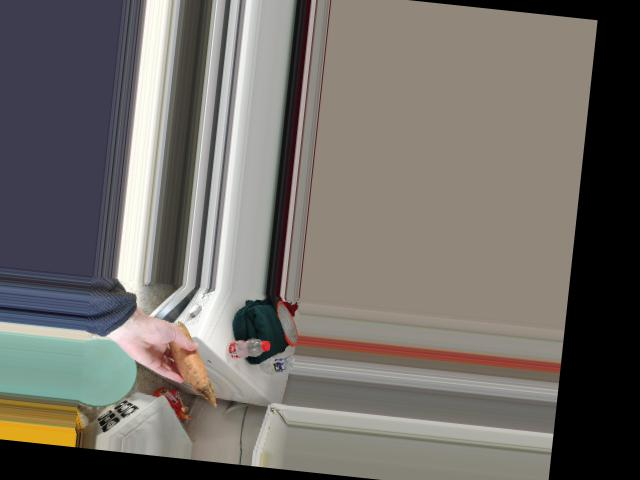sweet_potato: (169, 330, 210, 384)
